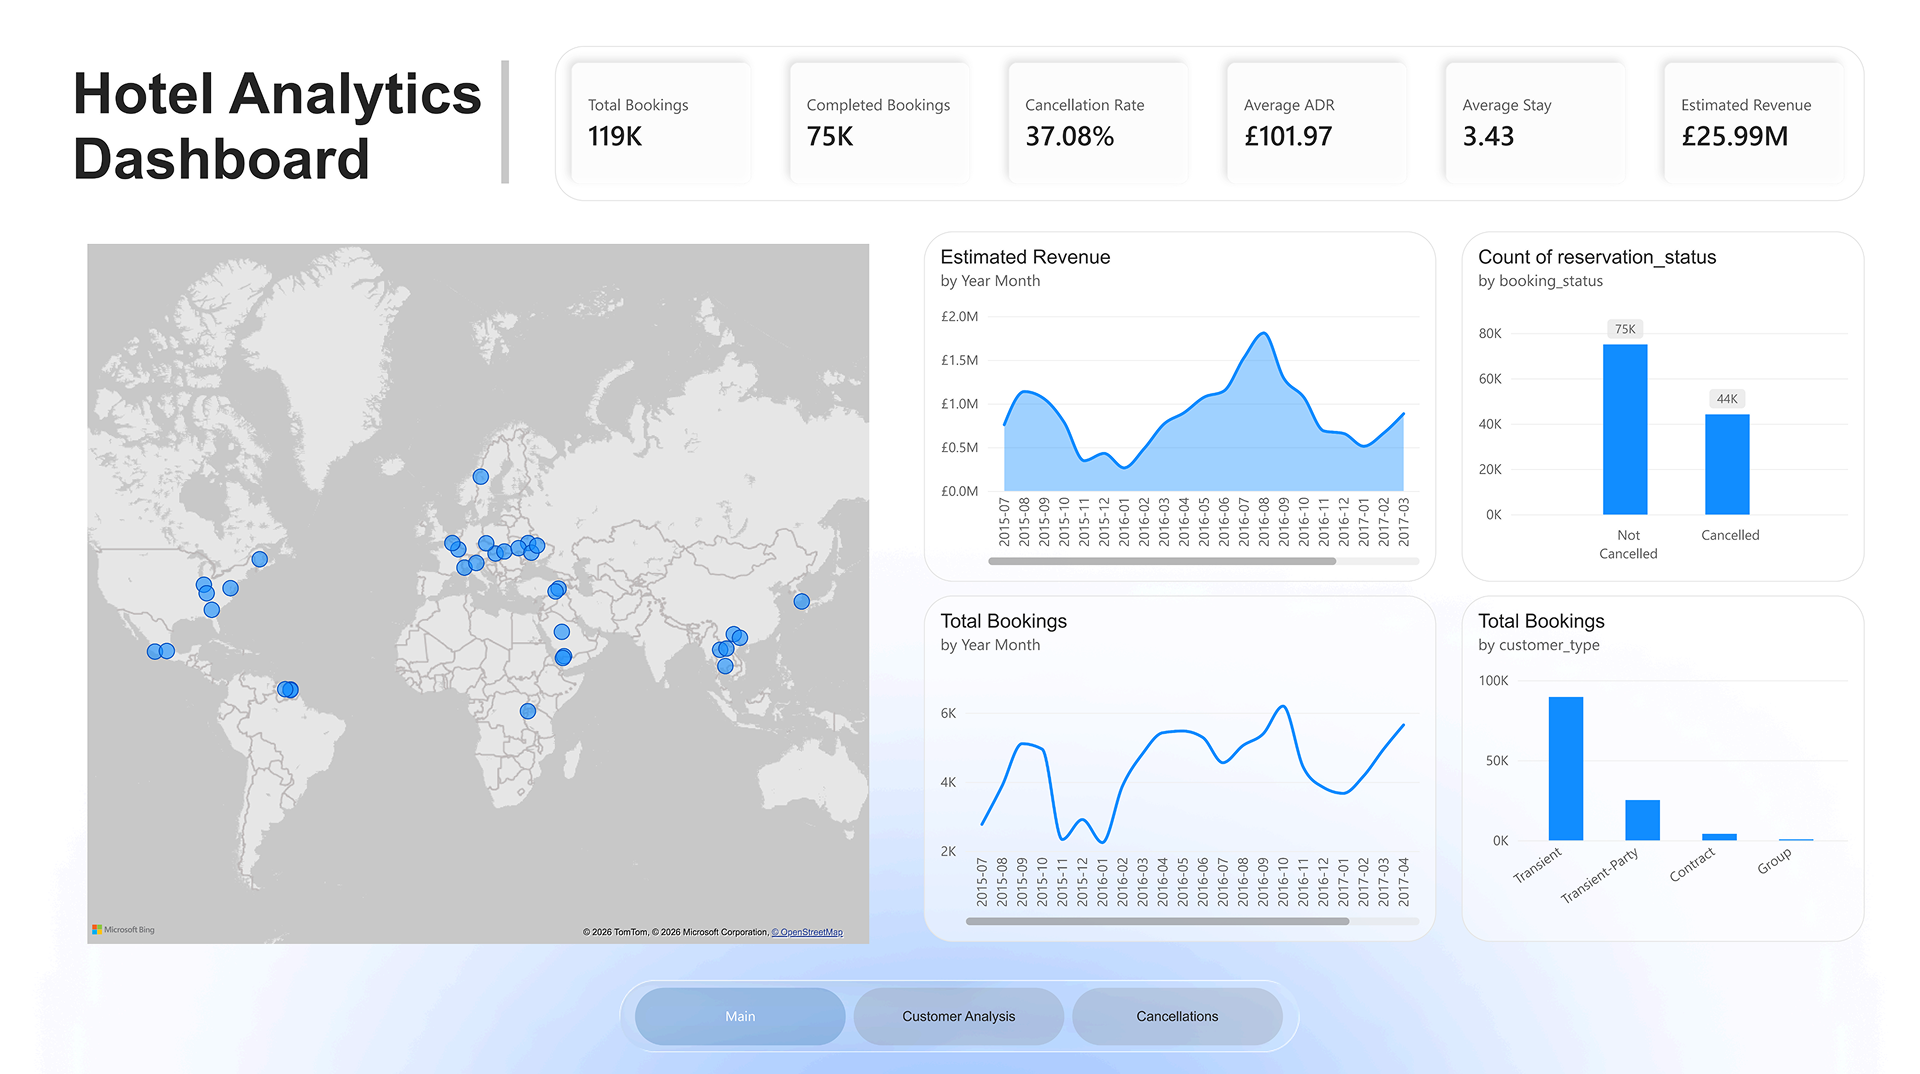

What the dashboard file says about the page in this screenshot:
{"tool":"powerbi","page":{"name":"Main","canvas":[1920,1080],"ordinal":0},"visuals":[{"type":"cardVisual","fields":{"Data":["public vw_hotel_analysis.Total Bookings","public vw_hotel_analysis.Completed Bookings","public vw_hotel_analysis.Cancellation Rate","public vw_hotel_analysis.Average ADR","public vw_hotel_analysis.Average Stay","public vw_hotel_analysis.Estimated Revenue"]},"box":[545,23.3,1341.7,158.3],"z":0},{"type":"textbox","box":[50,38.3,448.3,130],"z":1000},{"type":"lineChart","fields":{"Category":["Calendar.Year Month"],"Y":["public vw_hotel_analysis.Total Bookings"]},"box":[923.3,585.8,525,355],"z":2000},{"type":"areaChart","fields":{"Category":["Calendar.Year Month"],"Y":["public vw_hotel_analysis.Estimated Revenue"]},"box":[923.3,212.5,525,359.2],"z":3000},{"type":"lineClusteredColumnComboChart","fields":{"Category":["public vw_hotel_analysis.booking_status"],"Y":["CountNonNull(public vw_hotel_analysis.reservation_status)"]},"box":[1474.2,212.5,412.5,359.2],"z":4000},{"type":"lineClusteredColumnComboChart","fields":{"Category":["public vw_hotel_analysis.customer_type"],"Y":["public vw_hotel_analysis.Total Bookings"]},"box":[1474.2,585.8,412.5,355],"z":5000},{"type":"map","fields":{"Category":["public vw_hotel_analysis.country"]},"box":[49.6,212.5,832.9,746.6],"z":6000},{"type":"pageNavigator","box":[627,988,666,59],"z":6001}]}

Visuals, with their boxes in screenshot pixels (x1, y1, x2, y2), scaled from the page's 1920x1080 canvas onto the 1920x1074 screenshot:
cardVisual - public vw_hotel_analysis.Total Bookings x public vw_hotel_analysis.Completed Bookings: {"x1": 545, "y1": 23, "x2": 1887, "y2": 181}
textbox: {"x1": 50, "y1": 38, "x2": 498, "y2": 167}
lineChart - Calendar.Year Month x public vw_hotel_analysis.Total Bookings: {"x1": 923, "y1": 583, "x2": 1448, "y2": 936}
areaChart - Calendar.Year Month x public vw_hotel_analysis.Estimated Revenue: {"x1": 923, "y1": 211, "x2": 1448, "y2": 569}
lineClusteredColumnComboChart - public vw_hotel_analysis.booking_status x CountNonNull(public vw_hotel_analysis.reservation_status): {"x1": 1474, "y1": 211, "x2": 1887, "y2": 569}
lineClusteredColumnComboChart - public vw_hotel_analysis.customer_type x public vw_hotel_analysis.Total Bookings: {"x1": 1474, "y1": 583, "x2": 1887, "y2": 936}
map - public vw_hotel_analysis.country: {"x1": 50, "y1": 211, "x2": 882, "y2": 954}
pageNavigator: {"x1": 627, "y1": 983, "x2": 1293, "y2": 1041}
